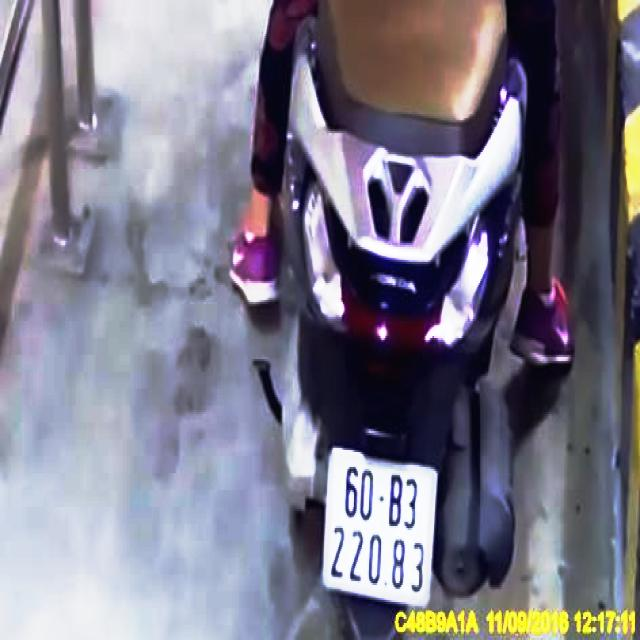license_plate: (322, 450, 436, 607)
